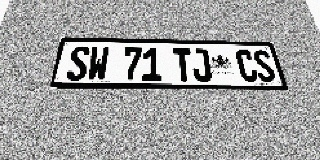1: (142, 48, 161, 81)
7: (122, 47, 142, 81)
C: (235, 49, 259, 82)
J: (191, 49, 212, 82)
S: (66, 46, 90, 81), (252, 50, 277, 82)
T: (173, 48, 193, 81)
W: (87, 46, 110, 81)
